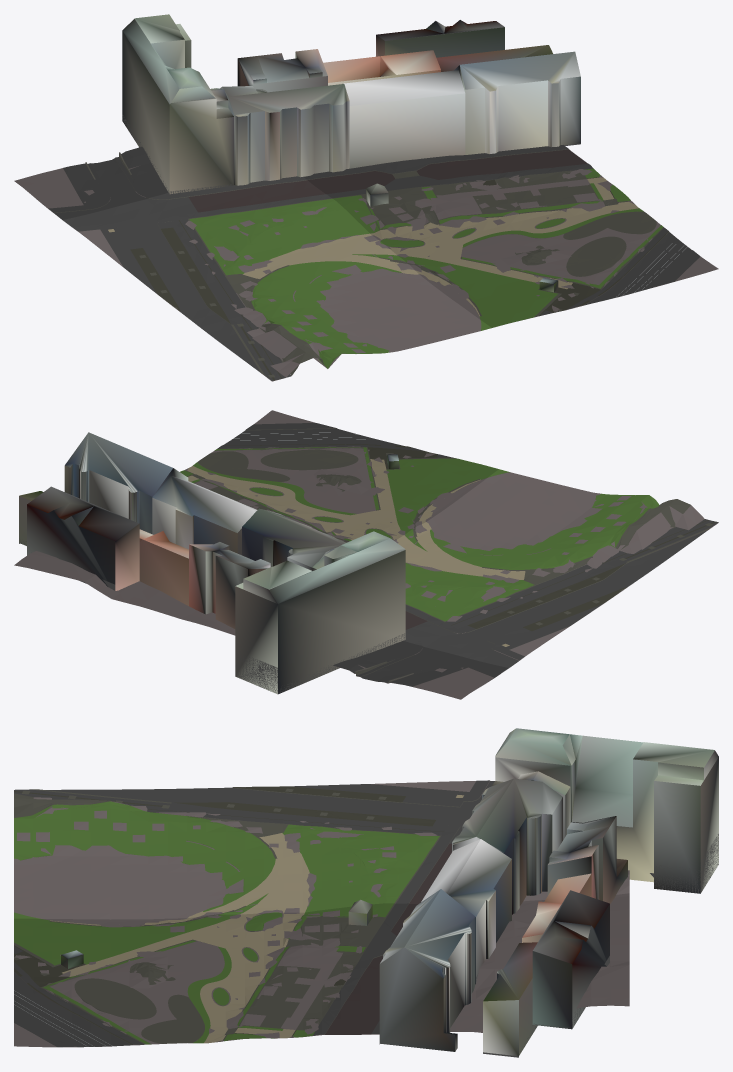
The picture shows the model from 3 angles, top to bottom: view 1: azimuth 30°, elevation 25°; view 2: azimuth 150°, elevation 25°; view 3: azimuth 270°, elevation 25°; orthographic projection. The views are drawn at different scales.
Visible parts, largest first — view 1: c_m11_p02, append:c_m11_p02; view 2: c_m11_p02, append:c_m11_p02; view 3: c_m11_p02, append:c_m11_p02.
Boxes of the visible parts, box(x1,y1,x2,y2) form: c_m11_p02: box(14, 14, 718, 327); append:c_m11_p02: box(62, 176, 491, 381); c_m11_p02: box(14, 410, 508, 699); append:c_m11_p02: box(394, 469, 718, 667); c_m11_p02: box(14, 728, 718, 1057); append:c_m11_p02: box(14, 780, 629, 919).
Size of the model in its own units: 140 by 30.69 by 147.
